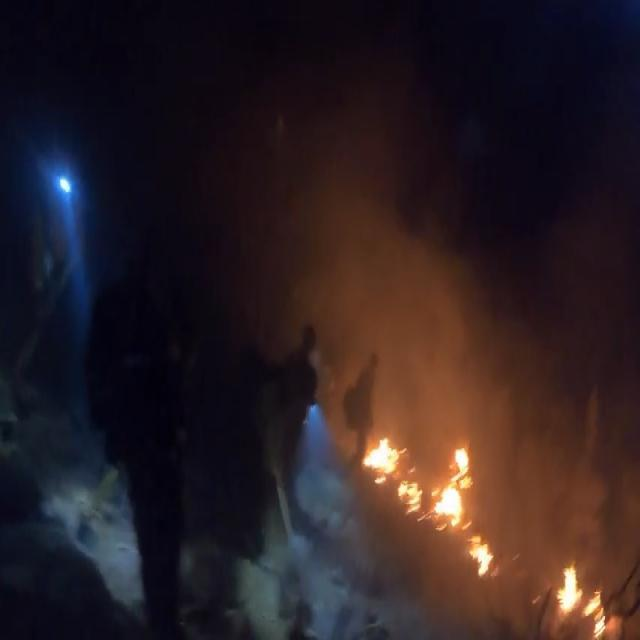Fire: (362, 421, 620, 640)
